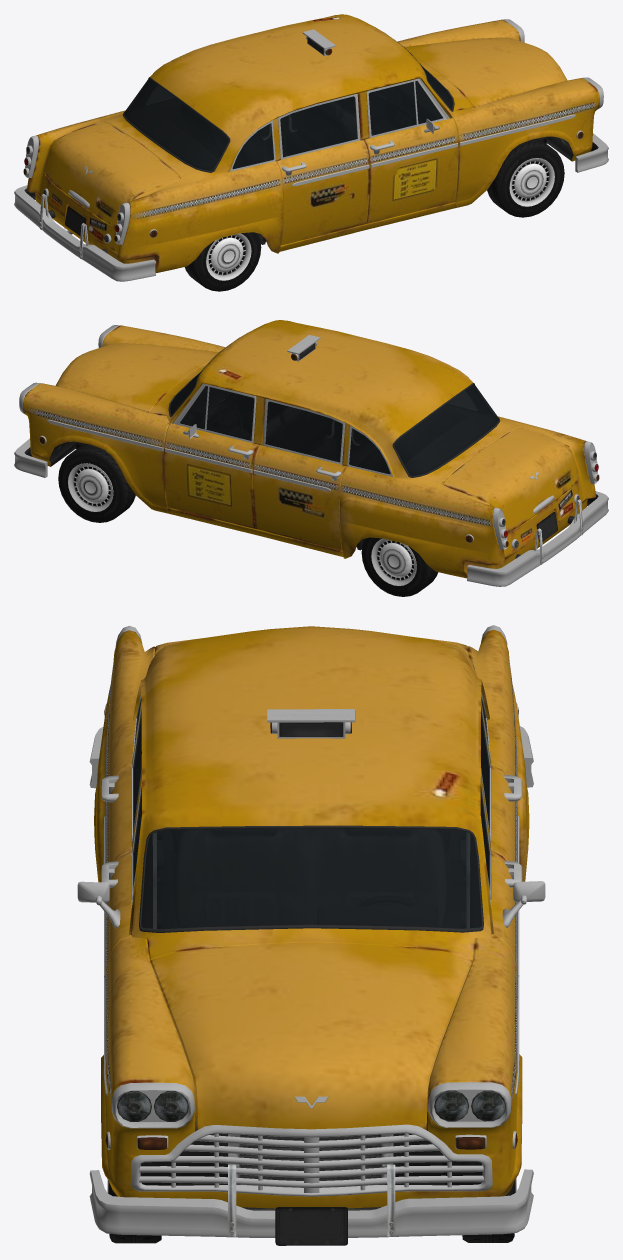
Rendered from car_taxi.glb.
3 renders of one model, top to bottom at view 1: azimuth 30°, elevation 25°; view 2: azimuth 150°, elevation 25°; view 3: azimuth 270°, elevation 25°, orthographic. The views are drawn at different scales.
Parts seen in each view (by area): view 1: Canyon75_Body_Canyon75_Bodymat_0, Canyon75_Interior_UCB_Interiors_2_0, Canyon75_Trunk_door_Canyon75_Bodymat_0, Canyon75_Hood_Canyon75_Bodymat_0, Canyon75_Bottom_UCB_BOTTOM_0, Canyon75_Rear_windows_UCB_Lights_and_Glass_Transperent_0, Canyon75_WheelStock_FR_RB1c_Tire_1k_0, Canyon75_Bodyglass_UCB_Lights_and_Glass_Transperent_0, Canyon75_Bumper_rear_UCB_BOTTOM_0, Canyon75_WheelStock_RR_RB1c_Tire_1k_0, Canyon75_Glass_Passenger_UCB_Lights_and_Glass_Transperent_0, Canyon75_Bumper_front_UCB_BOTTOM_0 (+1 smaller); view 2: Canyon75_Body_Canyon75_Bodymat_0, Canyon75_Interior_UCB_Interiors_2_0, Canyon75_Trunk_door_Canyon75_Bodymat_0, Canyon75_Hood_Canyon75_Bodymat_0, Canyon75_Bottom_UCB_BOTTOM_0, Canyon75_Rear_windows_UCB_Lights_and_Glass_Transperent_0, Canyon75_WheelStock_FL_RB1c_Tire_1k_0, Canyon75_Bodyglass_UCB_Lights_and_Glass_Transperent_0, Canyon75_Bumper_rear_UCB_BOTTOM_0, Canyon75_WheelStock_RL_RB1c_Tire_1k_0, Canyon75_Glass_Driver_UCB_Lights_and_Glass_Transperent_0, Canyon75_Bumper_front_UCB_BOTTOM_0 (+1 smaller); view 3: Canyon75_Body_Canyon75_Bodymat_0, Canyon75_Hood_Canyon75_Bodymat_0, Canyon75_Bottom_UCB_BOTTOM_0, Canyon75_Interior_UCB_Interiors_2_0, Canyon75_Windshield_UCB_Lights_and_Glass_Transperent_0, Canyon75_Bumper_front_UCB_BOTTOM_0, Canyon75_Headlights_UCB_Lights_and_Glass_0, Canyon75_Taxi_Beacon_UCB_BOTTOM_0, Canyon75_Bodyglass_UCB_Lights_and_Glass_Transperent_0, Canyon75_Bumper_rear_UCB_BOTTOM_0.
Boxes of the visible parts, x1,y1,x2,y2 form: Canyon75_Body_Canyon75_Bodymat_0: (26,14,599,272); Canyon75_Interior_UCB_Interiors_2_0: (124,71,452,170); Canyon75_Trunk_door_Canyon75_Bodymat_0: (45,122,179,226); Canyon75_Hood_Canyon75_Bodymat_0: (404,37,567,107); Canyon75_Bottom_UCB_BOTTOM_0: (23,19,603,244); Canyon75_Rear_windows_UCB_Lights_and_Glass_Transperent_0: (124,78,273,171); Canyon75_WheelStock_FR_RB1c_Tire_1k_0: (487,138,564,217); Canyon75_Bodyglass_UCB_Lights_and_Glass_Transperent_0: (280,81,443,157); Canyon75_Bumper_rear_UCB_BOTTOM_0: (14,185,155,281); Canyon75_WheelStock_RR_RB1c_Tire_1k_0: (184,232,261,291); Canyon75_Glass_Passenger_UCB_Lights_and_Glass_Transperent_0: (368,81,416,135); Canyon75_Bumper_front_UCB_BOTTOM_0: (575,133,608,172); Canyon75_Body_Canyon75_Bodymat_0: (23,320,596,578); Canyon75_Interior_UCB_Interiors_2_0: (170,376,498,475); Canyon75_Trunk_door_Canyon75_Bodymat_0: (443,428,577,531); Canyon75_Hood_Canyon75_Bodymat_0: (55,343,218,412); Canyon75_Bottom_UCB_BOTTOM_0: (19,325,599,549); Canyon75_Rear_windows_UCB_Lights_and_Glass_Transperent_0: (349,384,498,476); Canyon75_WheelStock_FL_RB1c_Tire_1k_0: (58,444,135,522); Canyon75_Bodyglass_UCB_Lights_and_Glass_Transperent_0: (179,386,342,462); Canyon75_Bumper_rear_UCB_BOTTOM_0: (467,491,608,586); Canyon75_WheelStock_RL_RB1c_Tire_1k_0: (361,537,438,596); Canyon75_Glass_Driver_UCB_Lights_and_Glass_Transperent_0: (206,387,254,440); Canyon75_Bumper_front_UCB_BOTTOM_0: (14,438,47,477); Canyon75_Body_Canyon75_Bodymat_0: (94,626,529,1208); Canyon75_Hood_Canyon75_Bodymat_0: (150,942,472,1129); Canyon75_Bottom_UCB_BOTTOM_0: (77,625,545,1210); Canyon75_Interior_UCB_Interiors_2_0: (134,720,488,928); Canyon75_Windshield_UCB_Lights_and_Glass_Transperent_0: (141,828,481,929); Canyon75_Bumper_front_UCB_BOTTOM_0: (89,1164,533,1245); Canyon75_Headlights_UCB_Lights_and_Glass_0: (117,1090,505,1121); Canyon75_Taxi_Beacon_UCB_BOTTOM_0: (267,709,355,738); Canyon75_Bodyglass_UCB_Lights_and_Glass_Transperent_0: (133,708,490,898); Canyon75_Bumper_rear_UCB_BOTTOM_0: (89,726,533,788).
Size of the model in its own units: 5.3 by 1.83 by 2.13.
6 materials, 6 textured.
